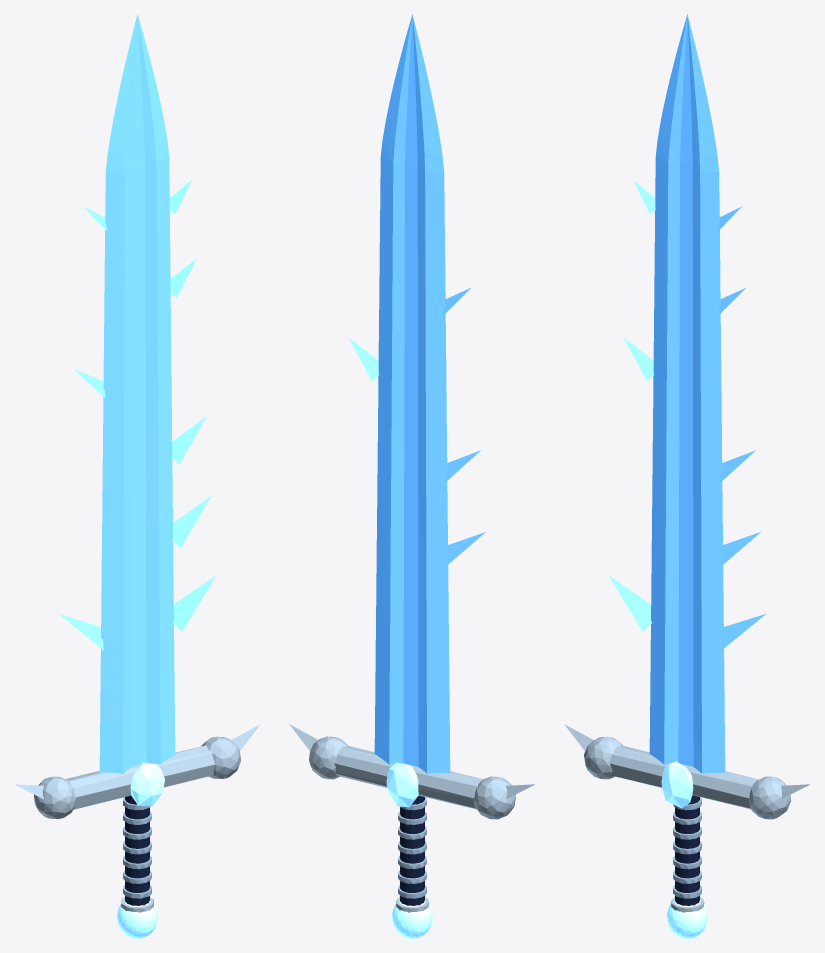
Rendered from sword_5.glb.
The picture shows the model from 3 angles, left to right: view 1: azimuth 30°, elevation 25°; view 2: azimuth 150°, elevation 25°; view 3: azimuth 330°, elevation 25°; orthographic projection.
Visible parts, largest first — view 1: part_01, part_14, part_21, part_15, part_19, part_16, part_29, part_03, part_05, part_07; view 2: part_01, part_14, part_21, part_15, part_20, part_16, part_29; view 3: part_01, part_14, part_21, part_16, part_19, part_15, part_29, part_02.
Boxes of the visible parts, left/top/right/bottom form: part_01: left=99, top=14, right=175, bottom=773; part_14: left=65, top=745, right=215, bottom=809; part_21: left=125, top=795, right=149, bottom=905; part_15: left=34, top=776, right=75, bottom=819; part_19: left=130, top=762, right=164, bottom=806; part_16: left=201, top=736, right=240, bottom=779; part_29: left=117, top=900, right=157, bottom=938; part_03: left=173, top=575, right=216, bottom=631; part_05: left=172, top=496, right=210, bottom=547; part_07: left=171, top=417, right=205, bottom=464; part_01: left=374, top=14, right=450, bottom=773; part_14: left=334, top=745, right=482, bottom=809; part_21: left=400, top=795, right=424, bottom=905; part_15: left=474, top=776, right=515, bottom=819; part_20: left=386, top=762, right=418, bottom=807; part_16: left=309, top=736, right=348, bottom=779; part_29: left=392, top=900, right=432, bottom=938; part_01: left=649, top=14, right=725, bottom=773; part_14: left=609, top=745, right=758, bottom=809; part_21: left=675, top=795, right=699, bottom=905; part_16: left=749, top=776, right=790, bottom=819; part_19: left=661, top=761, right=693, bottom=808; part_15: left=584, top=736, right=623, bottom=779; part_29: left=667, top=900, right=707, bottom=938; part_02: left=608, top=575, right=651, bottom=631.
Size of the model in its own units: 0.3914 by 1.4 by 0.0804.
